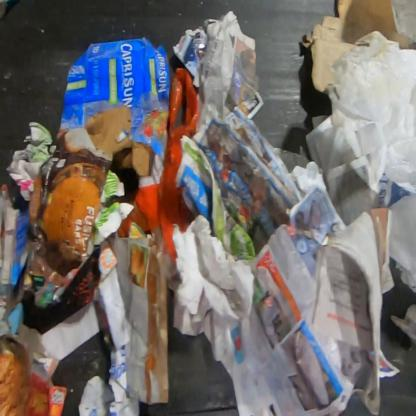cardboard: (8, 127, 113, 309), (59, 38, 171, 176), (301, 0, 412, 94), (0, 320, 78, 415)
soft_plastic: (117, 68, 199, 264), (327, 30, 416, 207)
